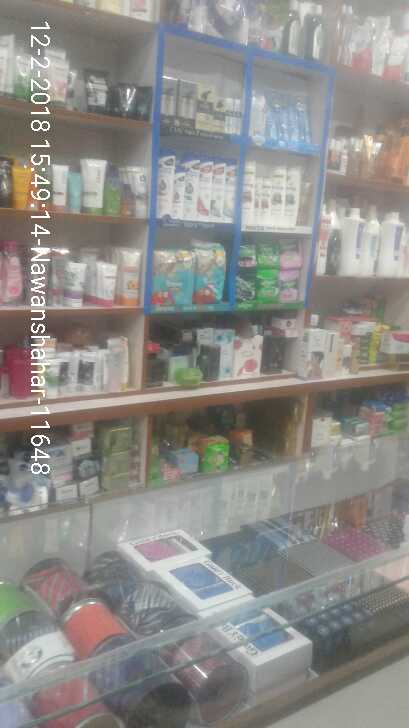venus: (289, 98, 315, 140), (267, 91, 289, 140), (251, 91, 267, 136)
